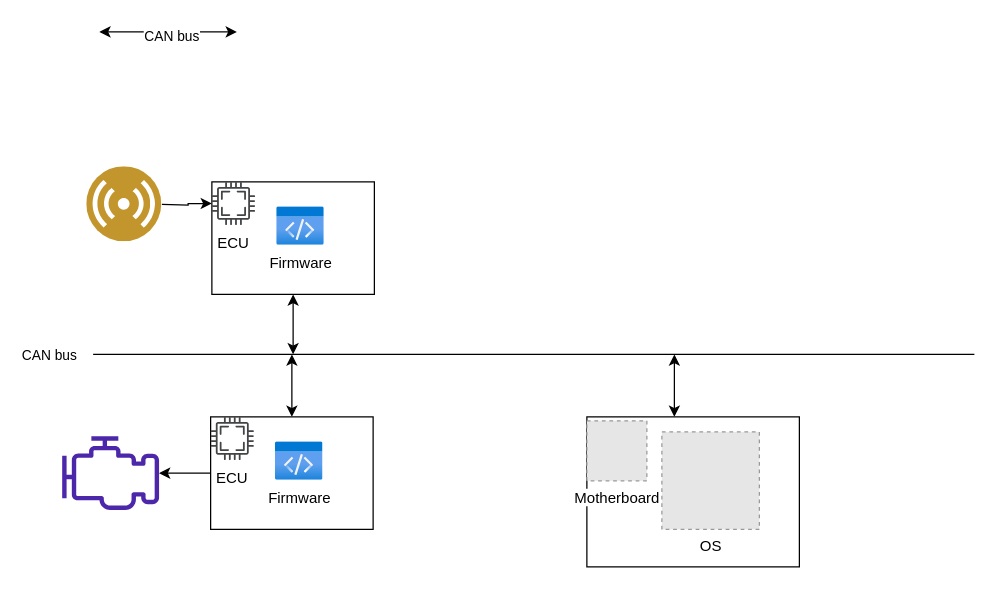
Image size: 998x589. Some labels were removed from this diagram. Grey dashed boxes stand in for pictures. The centre of each missing label's shape, as x and y in pixels:
Motor: point 110,472
Sensors: point 123,203
